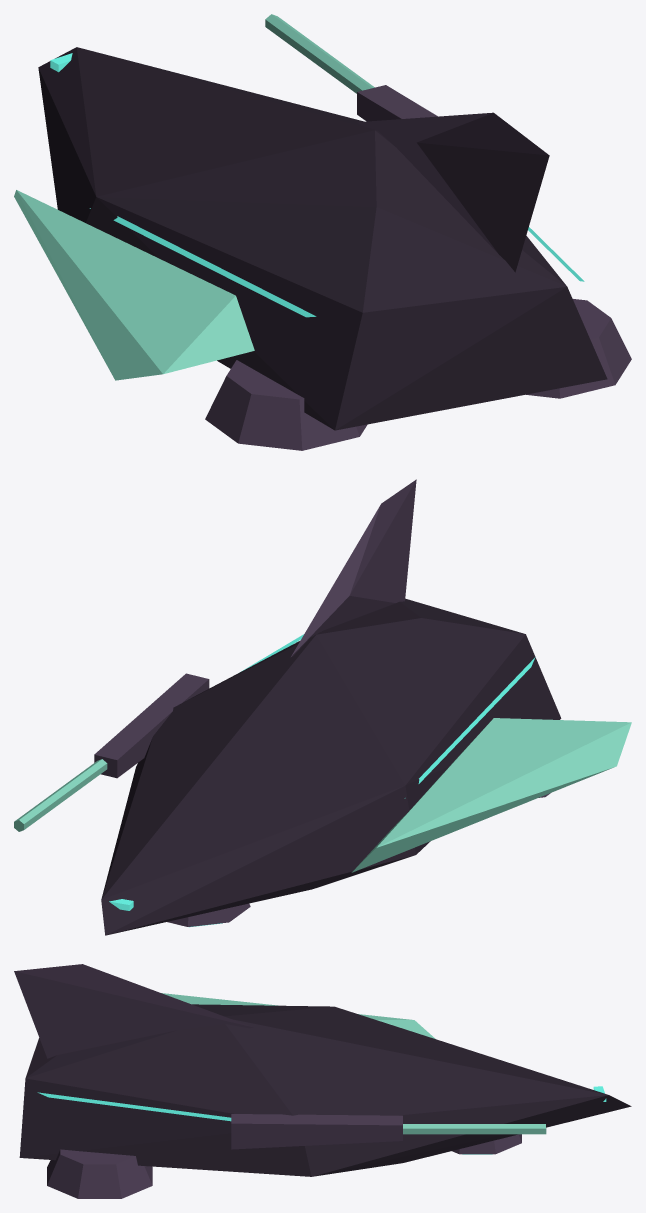
The model's file is aln_gnd_raider.glb.
3 views of the same model, one above another, from view 1: azimuth 30°, elevation 25°; view 2: azimuth 150°, elevation 25°; view 3: azimuth 270°, elevation 25° (orthographic). The views are drawn at different scales.
Visible parts, largest first — view 1: shell, hover_glow; view 2: shell, hover_glow; view 3: shell, hover_glow.
Boxes of the visible parts, x1=… form: shell: x1=14, y1=14, x2=631, y2=450; hover_glow: x1=50, y1=53, x2=584, y2=317; shell: x1=14, y1=479, x2=631, y2=935; hover_glow: x1=109, y1=634, x2=535, y2=927; shell: x1=14, y1=964, x2=631, y2=1198; hover_glow: x1=37, y1=1086, x2=606, y2=1154.
Size of the model in its own units: 3.3 by 1.87 by 5.4.
2 materials, 2 textured.
